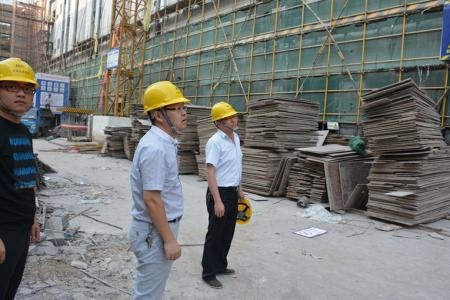yellow: (142, 80, 190, 131), (1, 54, 38, 120), (210, 98, 241, 133)
